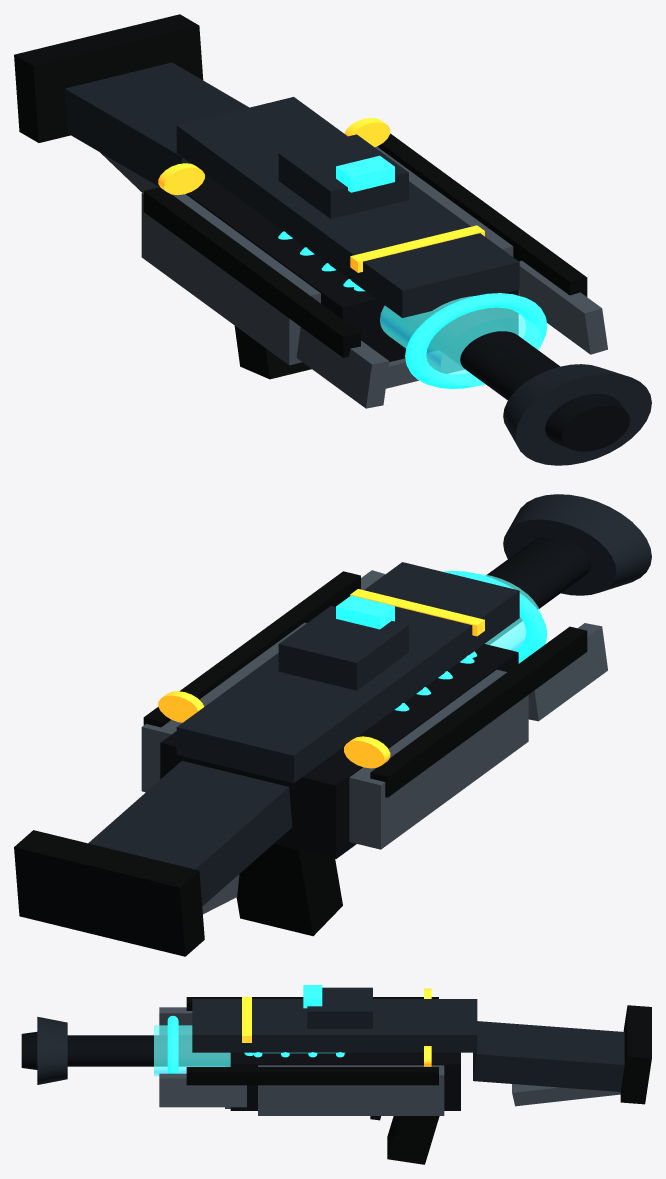
The model's file is railgun.glb.
3 renders of one model, top to bottom at view 1: azimuth 30°, elevation 25°; view 2: azimuth 150°, elevation 25°; view 3: azimuth 270°, elevation 25°, orthographic. The views are drawn at different scales.
Visible parts, largest first — view 1: UpperGunmetalRail, ShortAngularStockBeam, RubberShoulderPad, LeftArmorCheek, MainBlackReceiverBlock, LeftCableChannel, MuzzleArmorCollar, TopSightBase, InnerPlasmaBarrel, RightCableChannel, CyanAcceleratorSleeve, ForwardCoilBraceB (+10 smaller); view 2: UpperGunmetalRail, RubberShoulderPad, ShortAngularStockBeam, MainBlackReceiverBlock, LeftArmorCheek, MuzzleArmorCollar, LeftCableChannel, RubberPistolGrip, TopSightBase, InnerPlasmaBarrel, RightCableChannel, LeftFrontArmorFin (+7 smaller); view 3: UpperGunmetalRail, ShortAngularStockBeam, RightArmorCheek, RightCableChannel, InnerPlasmaBarrel, MainBlackReceiverBlock, RubberShoulderPad, TopSightBase, RightFrontArmorFin, RubberPistolGrip, CyanAcceleratorSleeve, MuzzleArmorCollar (+7 smaller).
Boxes of the visible parts, x1,y1,x2,y2 form: UpperGunmetalRail: [176, 97, 519, 317]; ShortAngularStockBeam: [65, 62, 248, 186]; RubberShoulderPad: [14, 14, 203, 142]; LeftArmorCheek: [141, 192, 320, 365]; MainBlackReceiverBlock: [160, 173, 518, 361]; LeftCableChannel: [143, 187, 360, 357]; MuzzleArmorCollar: [503, 364, 651, 465]; TopSightBase: [278, 134, 408, 218]; InnerPlasmaBarrel: [400, 309, 559, 400]; RightCableChannel: [377, 133, 587, 296]; CyanAcceleratorSleeve: [380, 296, 541, 386]; ForwardCoilBraceB: [405, 293, 547, 388]; UpperGunmetalRail: [176, 562, 519, 783]; RubberShoulderPad: [14, 830, 204, 956]; ShortAngularStockBeam: [88, 761, 292, 906]; MainBlackReceiverBlock: [160, 644, 518, 858]; LeftArmorCheek: [349, 669, 528, 849]; MuzzleArmorCollar: [503, 494, 651, 595]; LeftCableChannel: [370, 626, 587, 797]; RubberPistolGrip: [236, 844, 342, 936]; TopSightBase: [278, 606, 408, 690]; InnerPlasmaBarrel: [485, 536, 590, 644]; RightCableChannel: [143, 571, 360, 727]; LeftFrontArmorFin: [528, 623, 607, 721]; UpperGunmetalRail: [192, 999, 477, 1052]; ShortAngularStockBeam: [473, 1021, 624, 1091]; RightArmorCheek: [258, 1065, 444, 1115]; RightCableChannel: [186, 1067, 438, 1085]; InnerPlasmaBarrel: [67, 1035, 230, 1066]; MainBlackReceiverBlock: [230, 1052, 460, 1110]; RubberShoulderPad: [620, 1005, 651, 1104]; TopSightBase: [307, 987, 372, 1028]; RightFrontArmorFin: [159, 1073, 246, 1107]; RubberPistolGrip: [387, 1116, 439, 1164]; CyanAcceleratorSleeve: [154, 1025, 230, 1076]; MuzzleArmorCollar: [37, 1016, 67, 1084].
Size of the model in its own units: 0.25 by 0.2506 by 0.8961.
